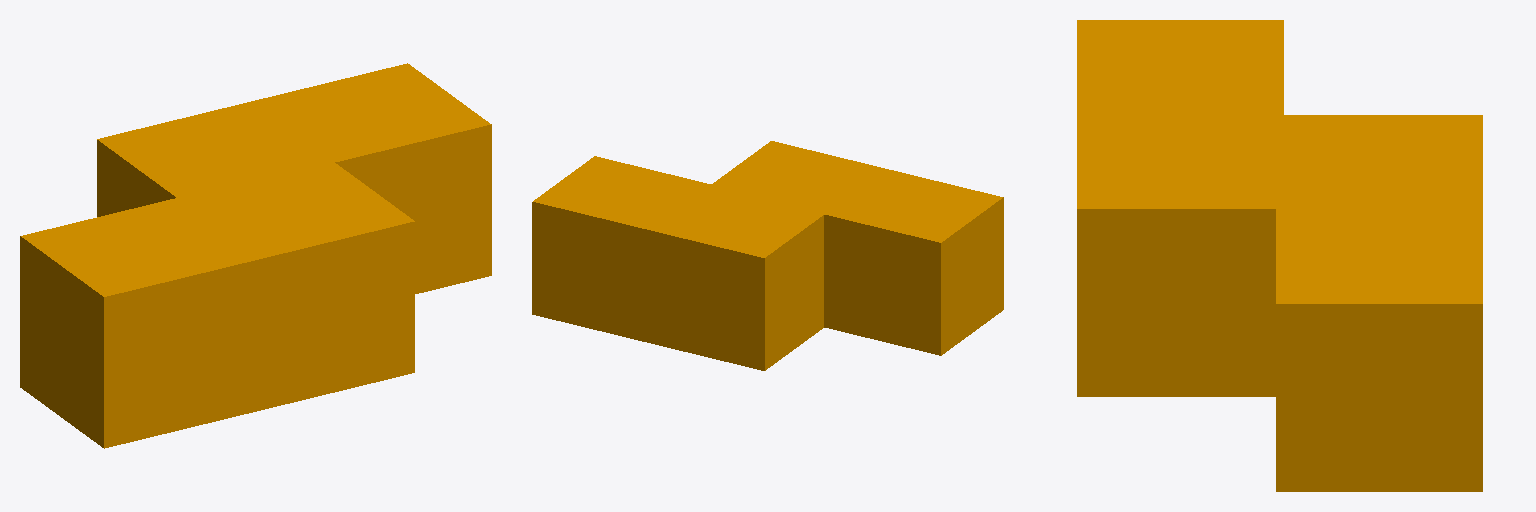
robot.urdf — object:
<?xml version="1.0"?>
<robot name="object">
  <link name="object">
    <visual>
      <origin xyz="0 0 0"/>
      <geometry>
        <mesh filename="meshes/final/final_obj5_s.obj" scale=".065 .065 .065"/>
      </geometry>
    </visual>
    <collision>
      <origin xyz="0 0 0"/>
      <geometry>
        <mesh filename="meshes/final/final_obj5_s.obj" scale=".065 .065 .065"/>
<!--          <mesh filename="meshes/custom/obj0_ball.obj" scale=".05 .05 .05"/>-->
      </geometry>
    </collision>
    <inertial>
      <density value="1000.0"/>
    </inertial>
  </link>
</robot>

--- Facts derived from the render (not from the file) ---
Views: 3 orthographic renders of the robot side by side, from view 1: azimuth 30°, elevation 25°; view 2: azimuth 150°, elevation 25°; view 3: azimuth 270°, elevation 25°.
Model object with 1 links and 0 joints (none), rooted at object, posed every joint at zero.
Visible links, largest first — view 1: object; view 2: object; view 3: object.
Link boxes in pixels (bbox=[...]): object: bbox=[20, 63, 491, 448]; object: bbox=[532, 141, 1003, 370]; object: bbox=[1077, 20, 1482, 491].
Bounding box of the posed robot: 0.084 × 0.051 × 0.026 m (x, y, z).
Meshes: 1 distinct files referenced, 1 mesh visuals loaded (1 OBJ).
